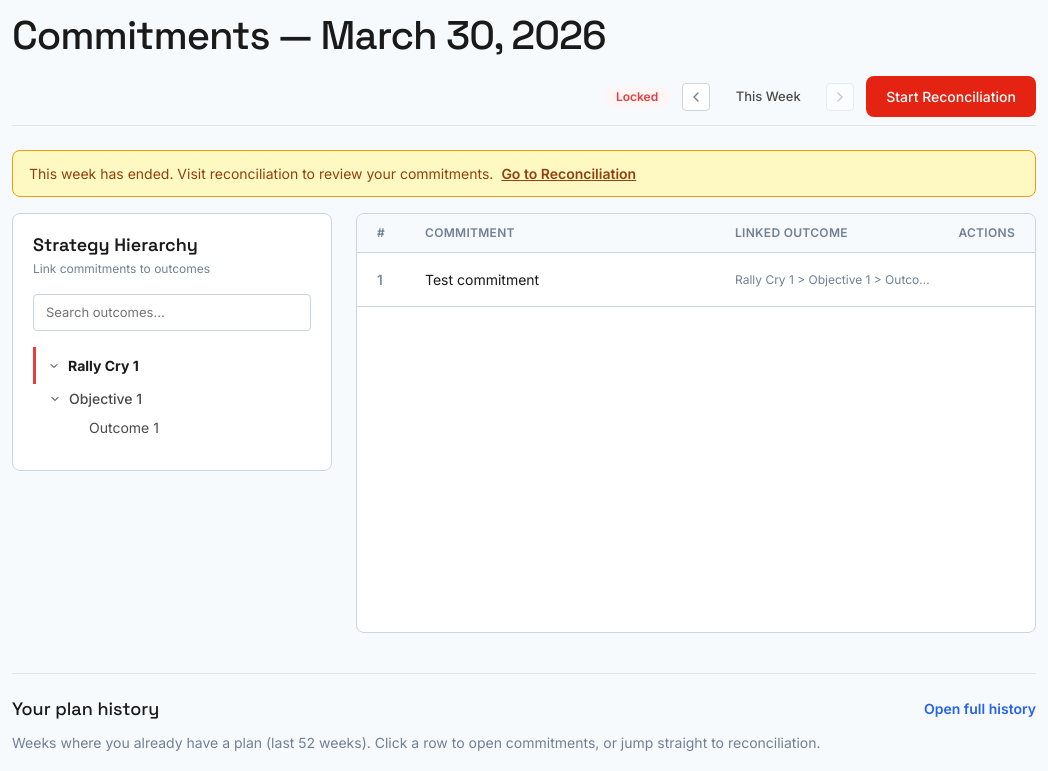
Test case: WeeklyPlanningPage › shows a toast when begin reconciliation fails
The width and height of the screenshot is (1048, 771).
Step 1. Click the button "Start Reconciliation" → {"x": 951, "y": 96}, box [866,76,1036,117]
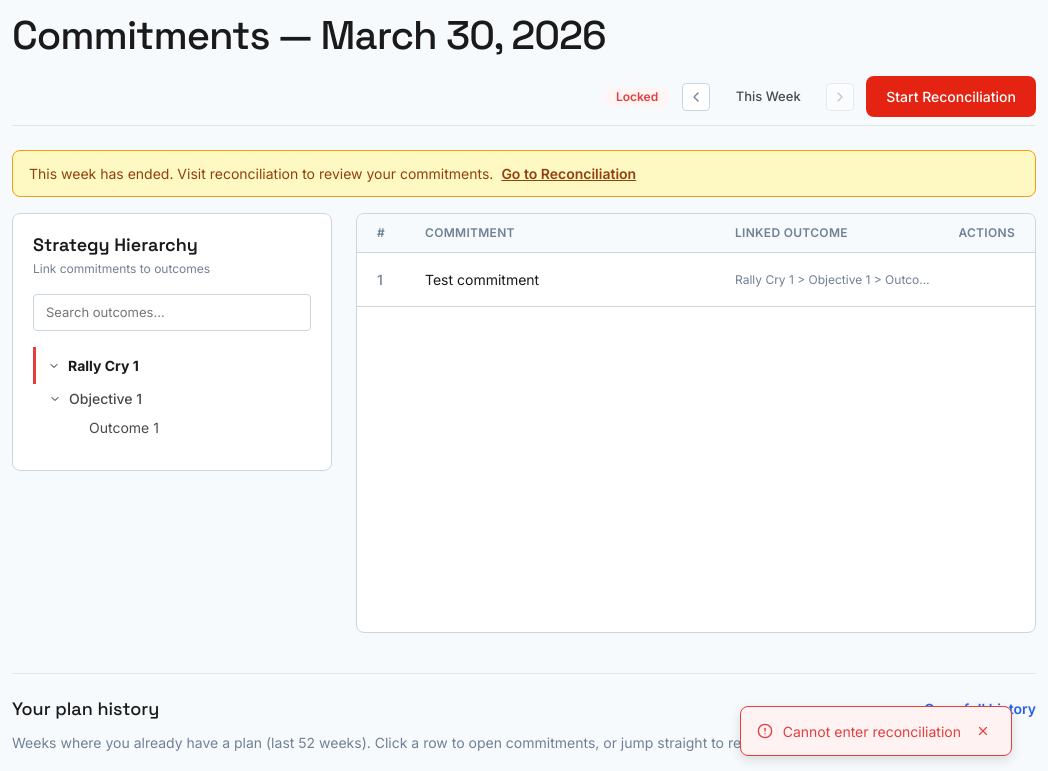
Result: the text "Cannot enter reconciliation" is shown at [783,720,961,742]
